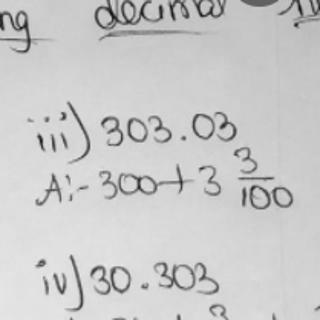.: (137, 279, 152, 293), (178, 131, 193, 144), (55, 110, 69, 123), (42, 110, 53, 125)
0: (169, 262, 196, 292), (119, 170, 144, 199), (250, 181, 272, 213), (110, 261, 131, 294), (193, 111, 216, 138), (127, 115, 148, 143), (137, 172, 160, 195), (271, 184, 292, 209)
1: (236, 182, 251, 210)
3: (196, 163, 224, 200), (100, 110, 125, 151), (193, 261, 222, 295), (149, 114, 174, 145), (215, 110, 239, 142), (88, 265, 112, 296), (235, 145, 258, 176), (97, 168, 119, 200), (154, 261, 173, 292)
